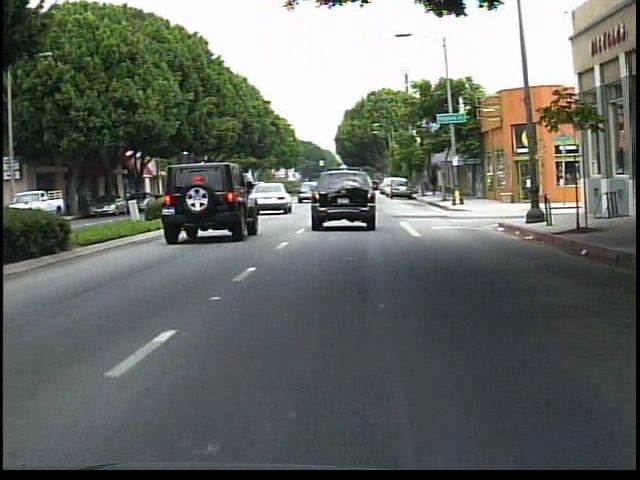person: (424, 165, 445, 202)
